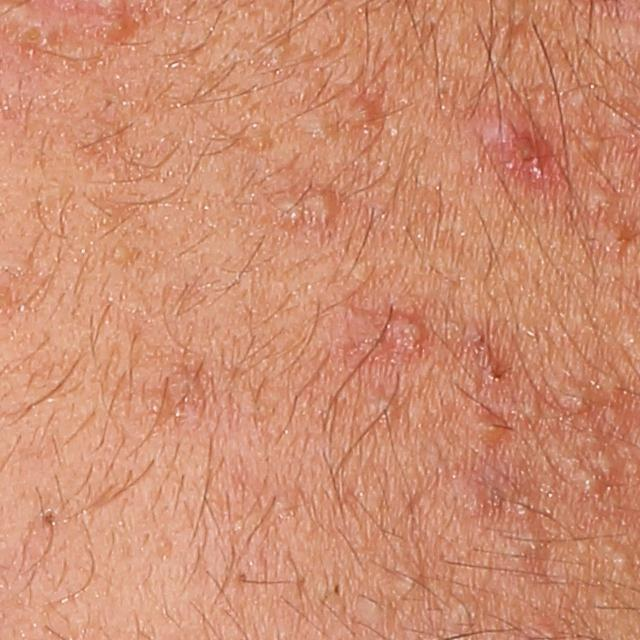comedo: (275, 192, 339, 228), (376, 307, 424, 355), (341, 84, 380, 129), (601, 540, 640, 576), (560, 383, 597, 420), (567, 467, 603, 501), (584, 187, 616, 222), (33, 503, 63, 536), (599, 227, 633, 256), (372, 393, 405, 419), (308, 113, 334, 142), (398, 571, 428, 596), (111, 242, 136, 267)
papule: (484, 113, 551, 183), (9, 2, 65, 50), (82, 3, 135, 45)
